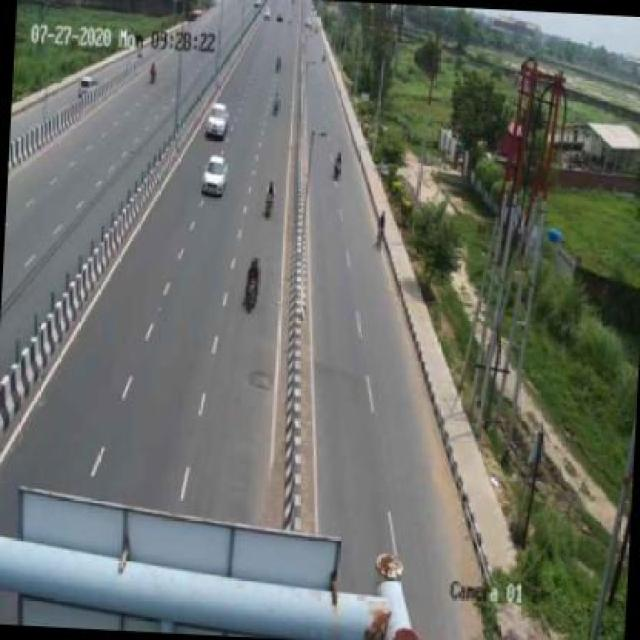car: (200, 155, 226, 197), (205, 103, 228, 142)
